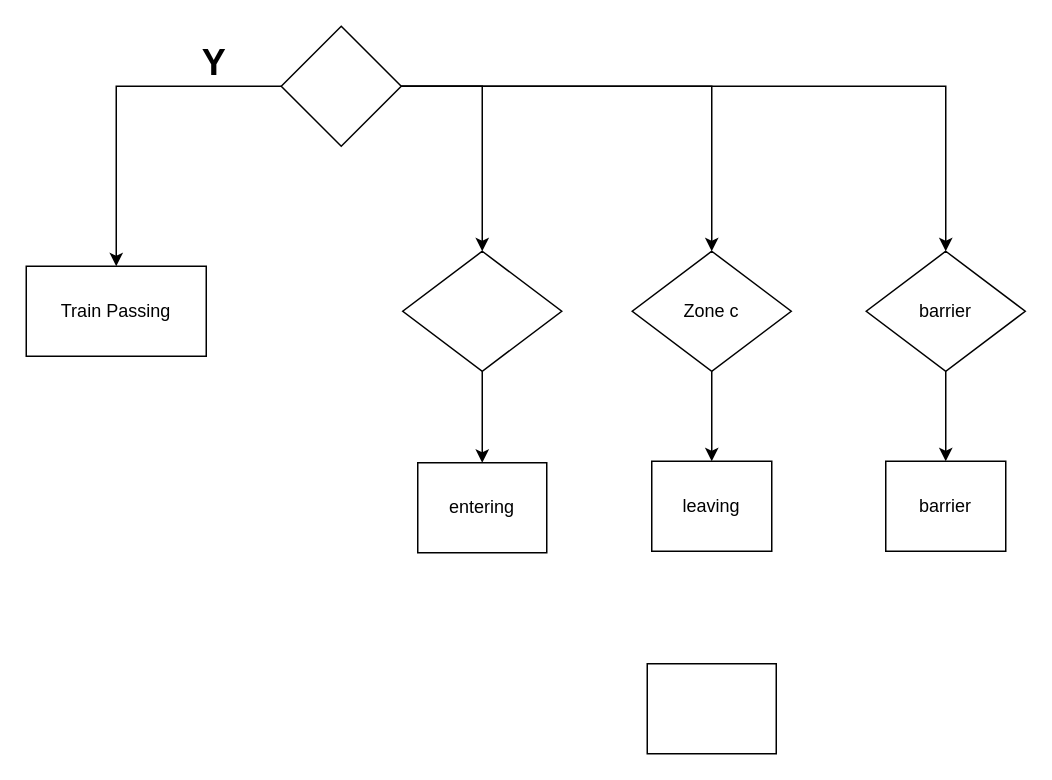
Image size: 1052x780. Some labels were removed from this diagram. Each missing label, with the box of its shape:
empty: (646, 662, 776, 754)
Train Zone Comparation: (280, 25, 401, 146)
Zone b: (401, 250, 562, 371)
